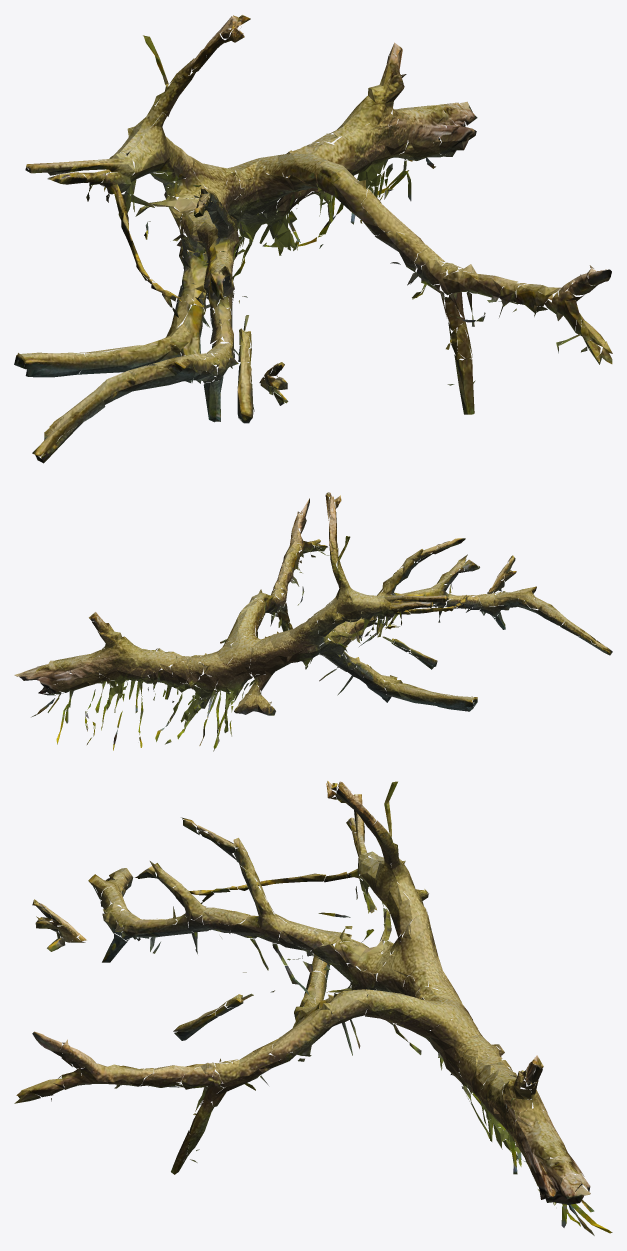
Rendered from branch_2_compressed.glb.
3 renders of one model, top to bottom at view 1: azimuth 30°, elevation 25°; view 2: azimuth 150°, elevation 25°; view 3: azimuth 270°, elevation 25°, orthographic. The views are drawn at different scales.
Parts seen in each view (by area): view 1: tripo_node_a15aca92-55d3-4e32-a431-1ef666626e43; view 2: tripo_node_a15aca92-55d3-4e32-a431-1ef666626e43; view 3: tripo_node_a15aca92-55d3-4e32-a431-1ef666626e43.
Part boxes in pixels (x1,y1,x2,y2): tripo_node_a15aca92-55d3-4e32-a431-1ef666626e43: (14,15,612,463); tripo_node_a15aca92-55d3-4e32-a431-1ef666626e43: (14,492,612,751); tripo_node_a15aca92-55d3-4e32-a431-1ef666626e43: (14,781,612,1235).
Size of the model in its own units: 1 by 0.507 by 0.8278.
Materials: 1 (1 with a texture image).
